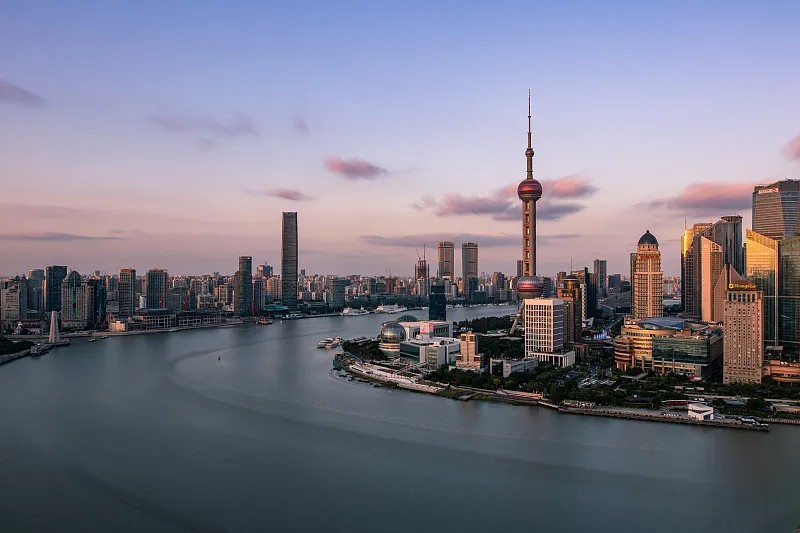Oriental: (509, 88, 543, 337)
